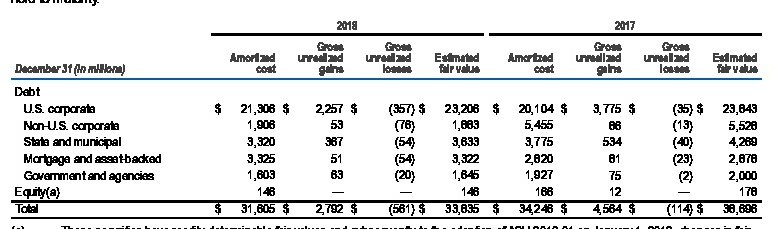table: (0, 0, 774, 229)
